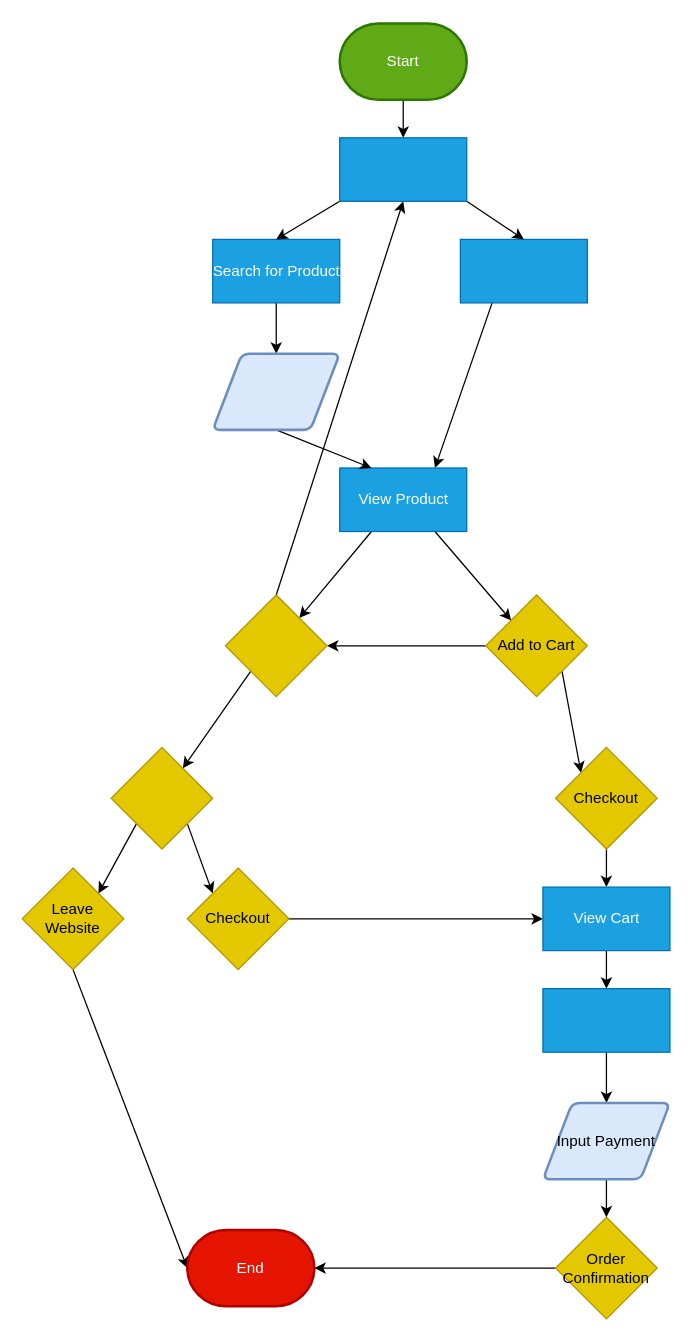
The diagram is 693 pixels wide and 1341 high, and some of its shapes have lost their labels. The centre of each missing label's shape, as x and y in pixels:
"Continue Shopping" belongs at (x=275, y=645).
"Explore Products" belongs at (x=523, y=270).
"Home Page" belongs at (x=402, y=169).
"Input Search" belongs at (x=275, y=391).
"Stop Shopping" belongs at (x=161, y=797).
"View Payment" belongs at (x=606, y=1019).
